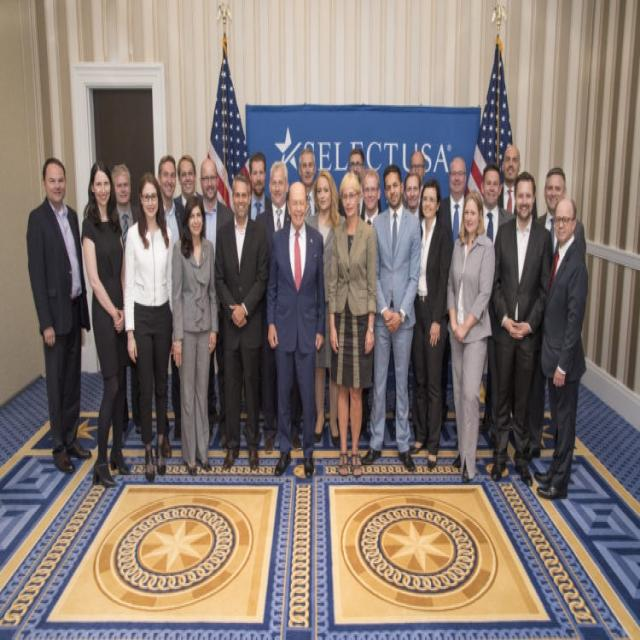body: (24, 152, 93, 477), (488, 168, 555, 483), (358, 160, 424, 474), (264, 178, 328, 480), (531, 195, 591, 502), (120, 168, 178, 485), (212, 171, 272, 474), (79, 155, 133, 491), (325, 168, 380, 479), (443, 185, 497, 488), (168, 191, 221, 479), (253, 158, 304, 455), (404, 177, 455, 472), (194, 157, 237, 455), (305, 169, 347, 448), (479, 161, 518, 451), (157, 151, 190, 461), (108, 162, 142, 434), (438, 155, 468, 435), (537, 165, 588, 269), (337, 146, 382, 222), (496, 142, 538, 218), (172, 155, 204, 240), (245, 151, 272, 223), (297, 145, 321, 222), (403, 170, 425, 242), (360, 166, 382, 225), (408, 148, 426, 205)
